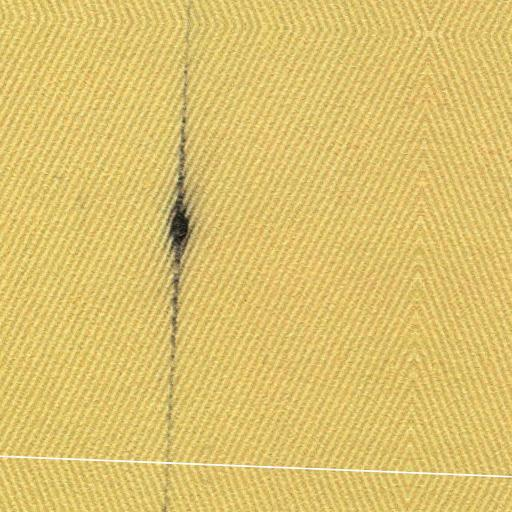stain: (154, 3, 199, 509)
